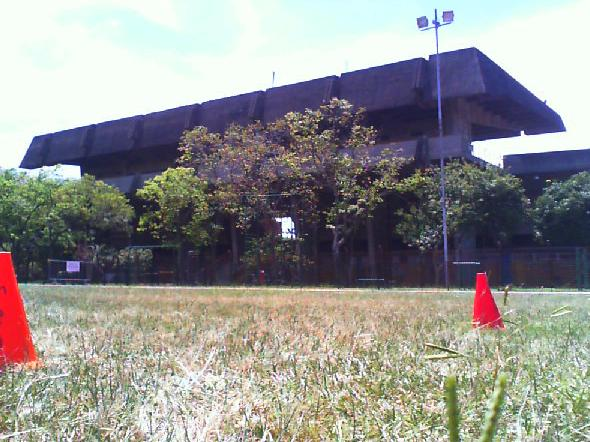0 cone: (0, 251, 45, 370), (472, 271, 506, 330)
